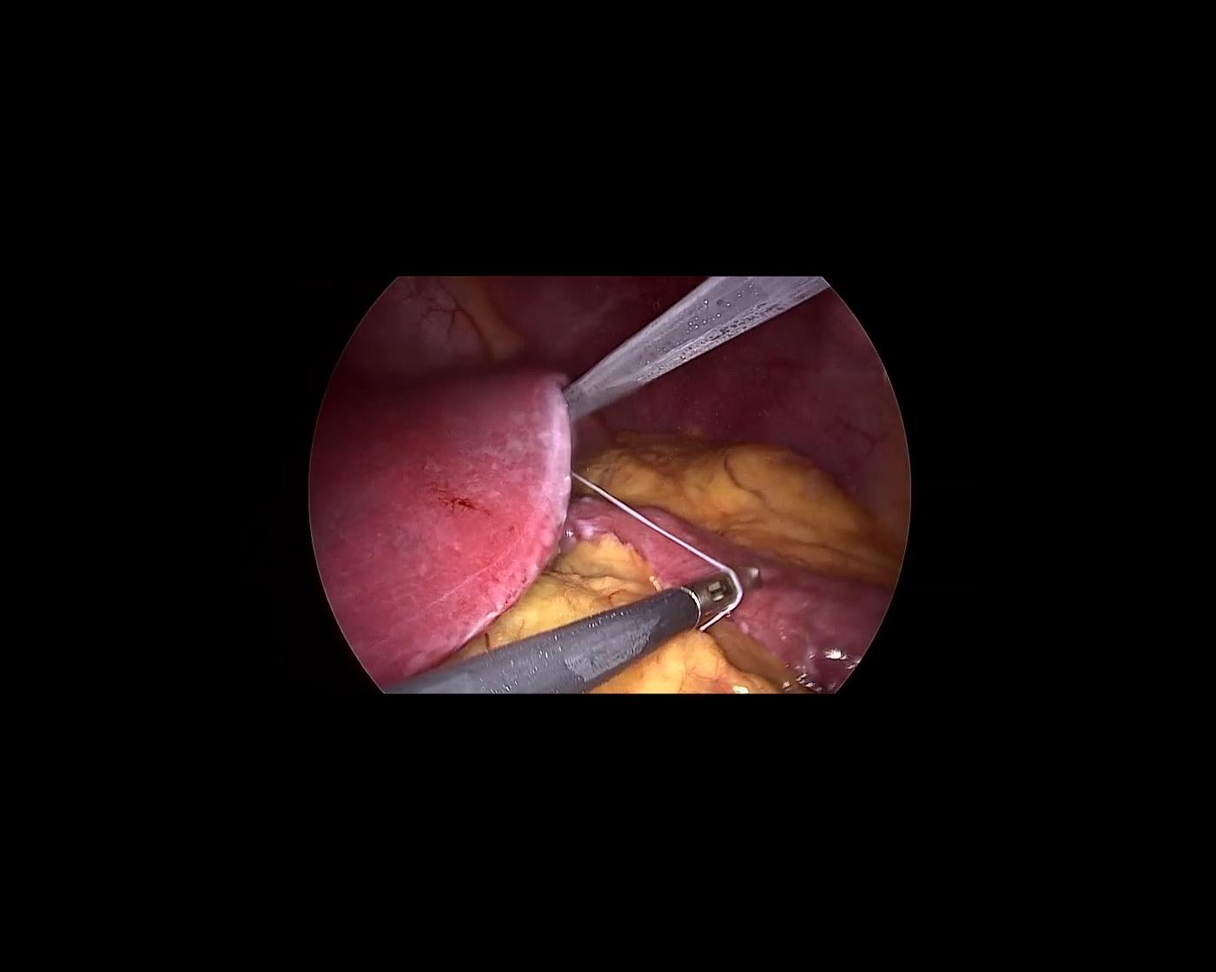Forceps: (375, 556, 776, 736), (541, 230, 830, 420)
Liver: (304, 365, 594, 694)
